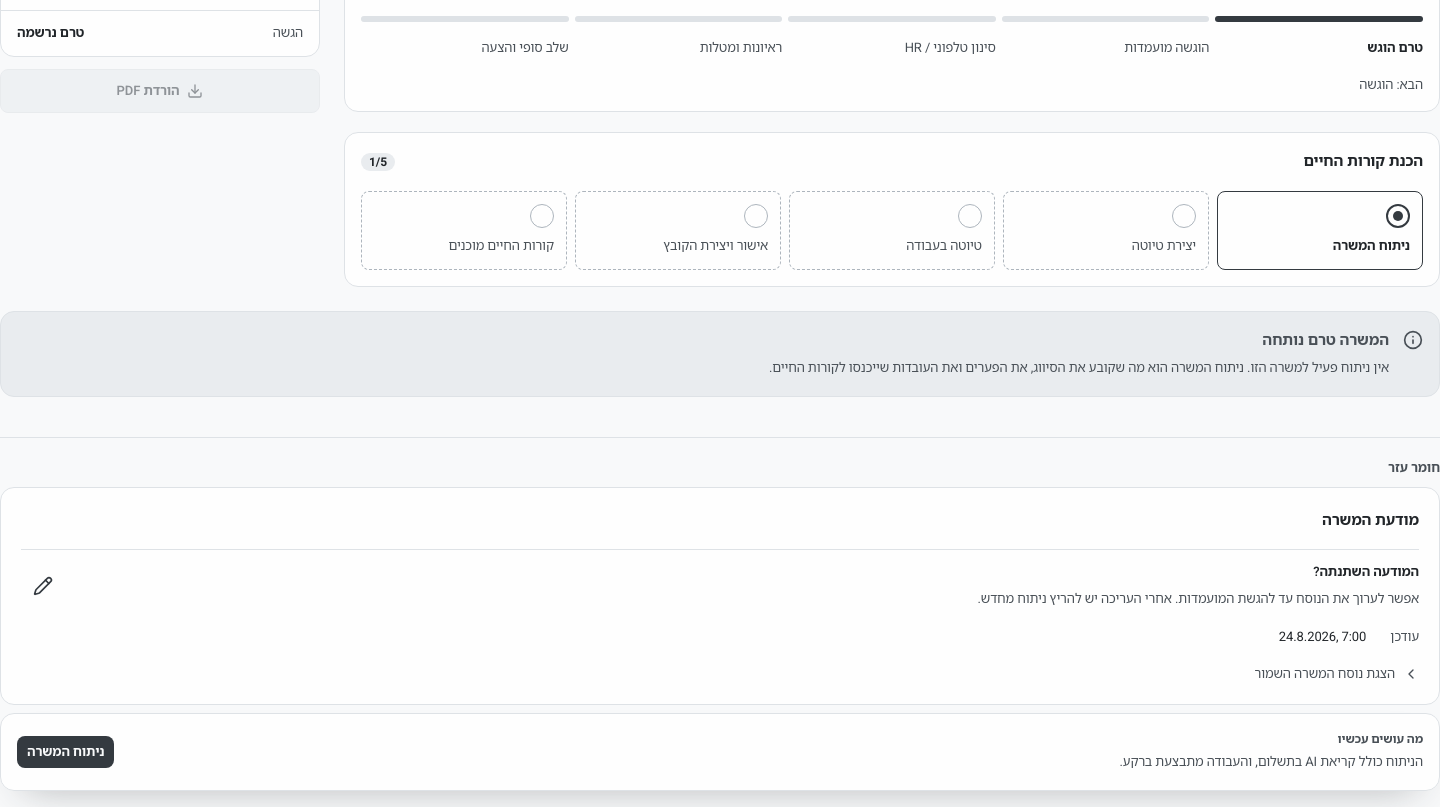
Test: ApplicationPage at the preparation route › keeps the stored posting and its update action reachable after analysis fails
(page scrolled)
Click the button named "עדכון נוסח המשרה" at (43, 586), box x1=21 y1=570 x2=65 y2=602
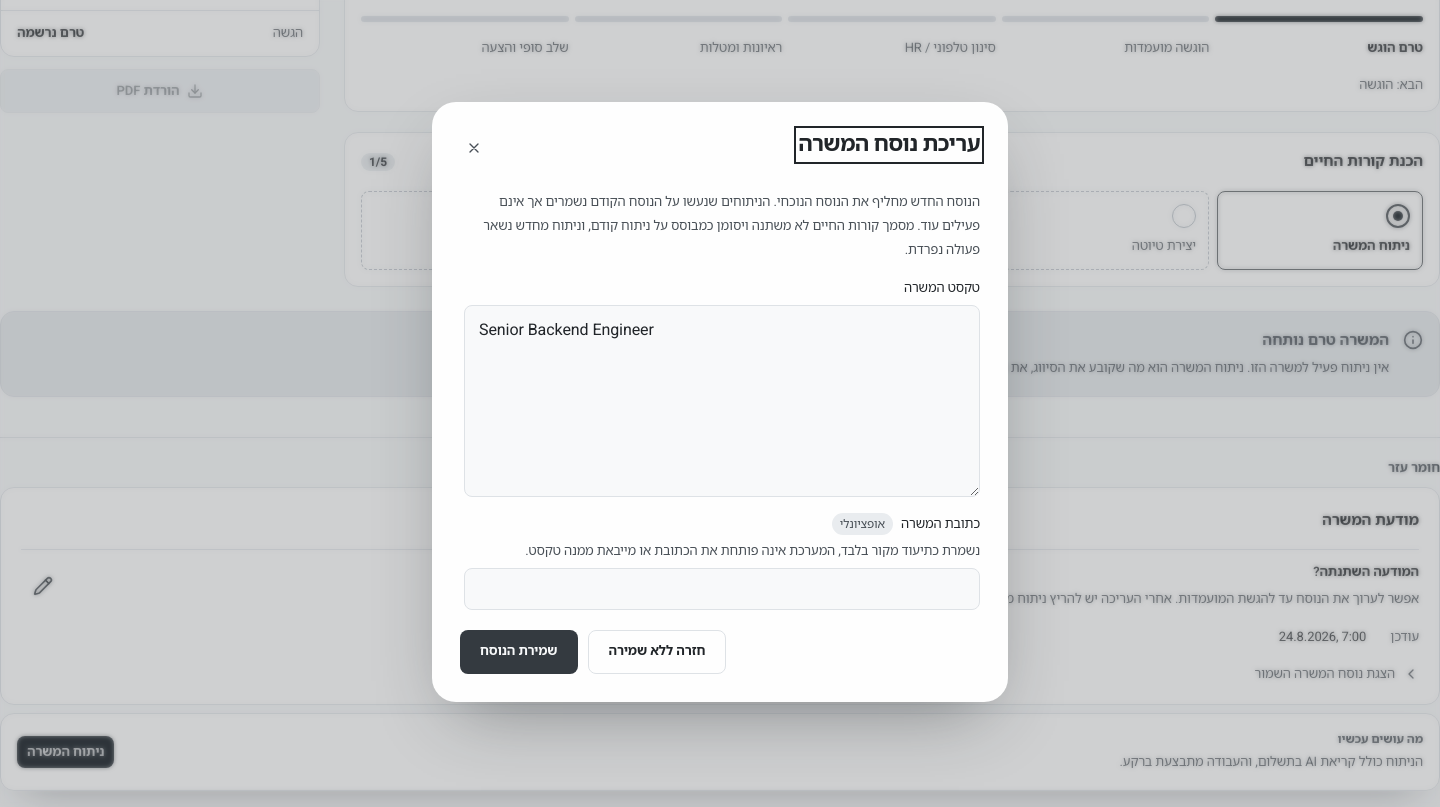
Now the dialog "עריכת נוסח המשרה" is shown, box x1=432 y1=102 x2=1008 y2=702
Now the text box labelled "טקסט המשרה" holds "Senior Backend Engineer", box x1=464 y1=305 x2=980 y2=497
